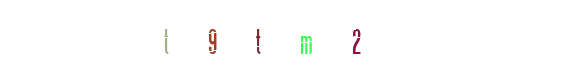2: (268, 0, 348, 80)
9: (235, 0, 315, 80)
M: (265, 0, 345, 80)
T: (185, 0, 265, 80), (242, 0, 322, 80)
